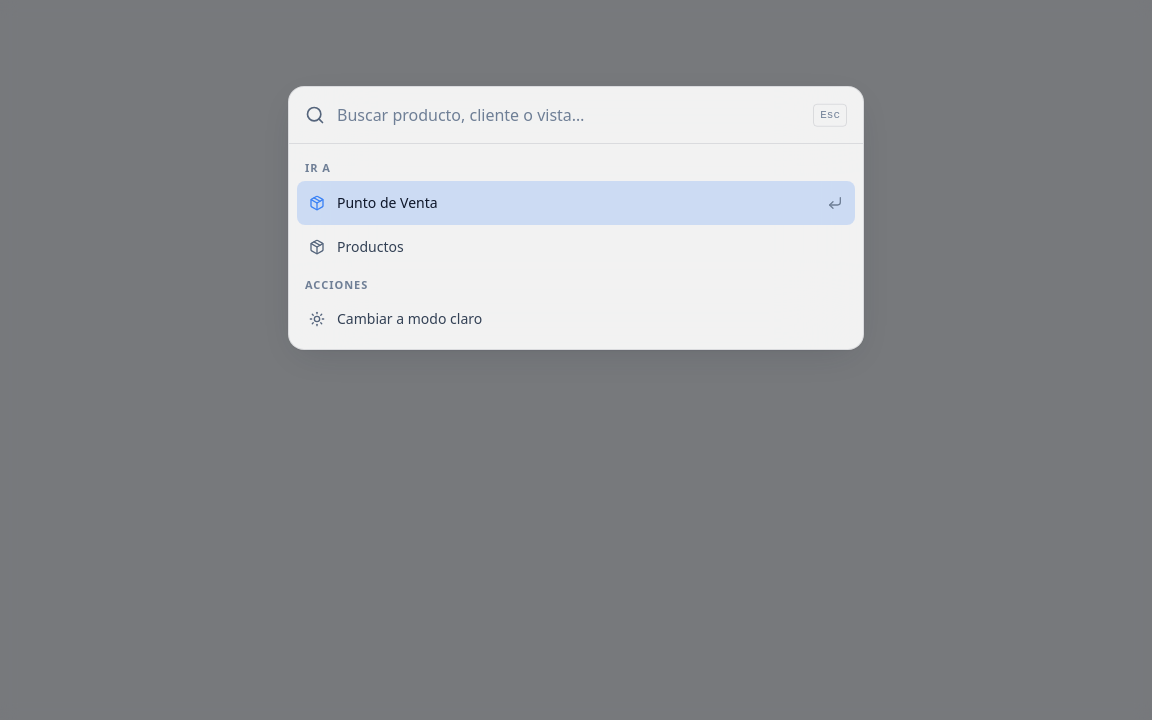
Paleta de comandos › encuentra clientes por nombre o rut
The image size is (1152, 720).
Type "12.345" into the dropdown.
click(576, 115); type("12.345")  # box [289,87,863,143]
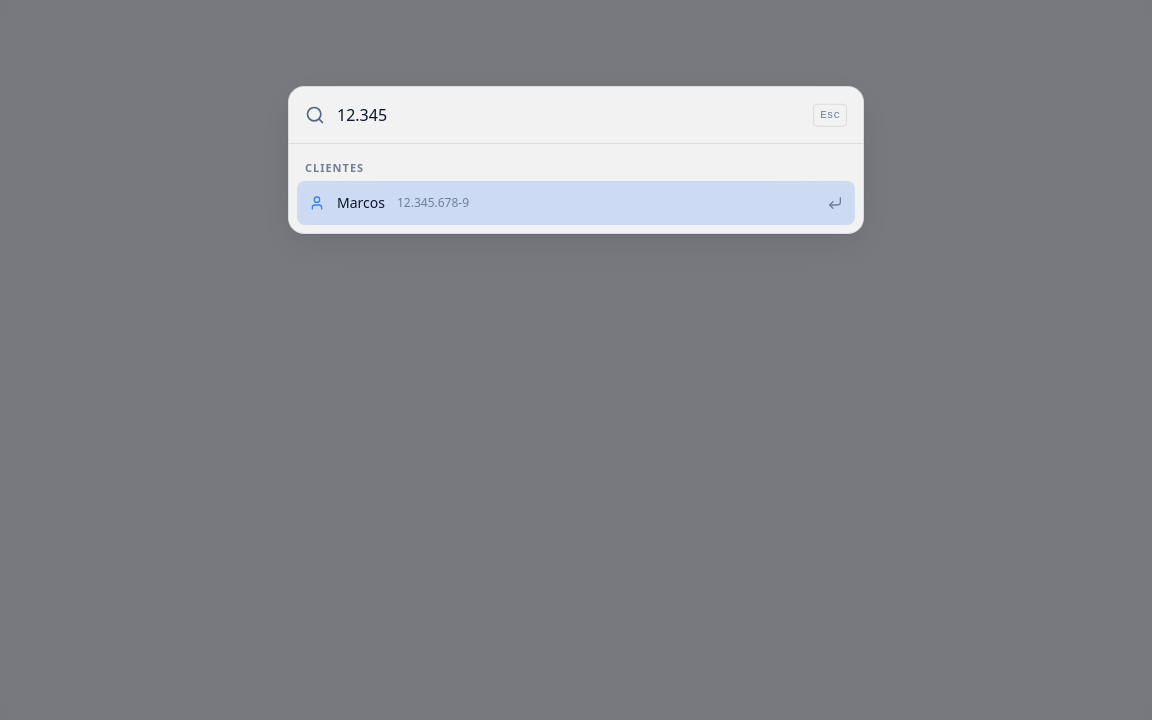
expect the option "Marcos 12.345.678-9" is shown: met, box [297,181,855,225]
